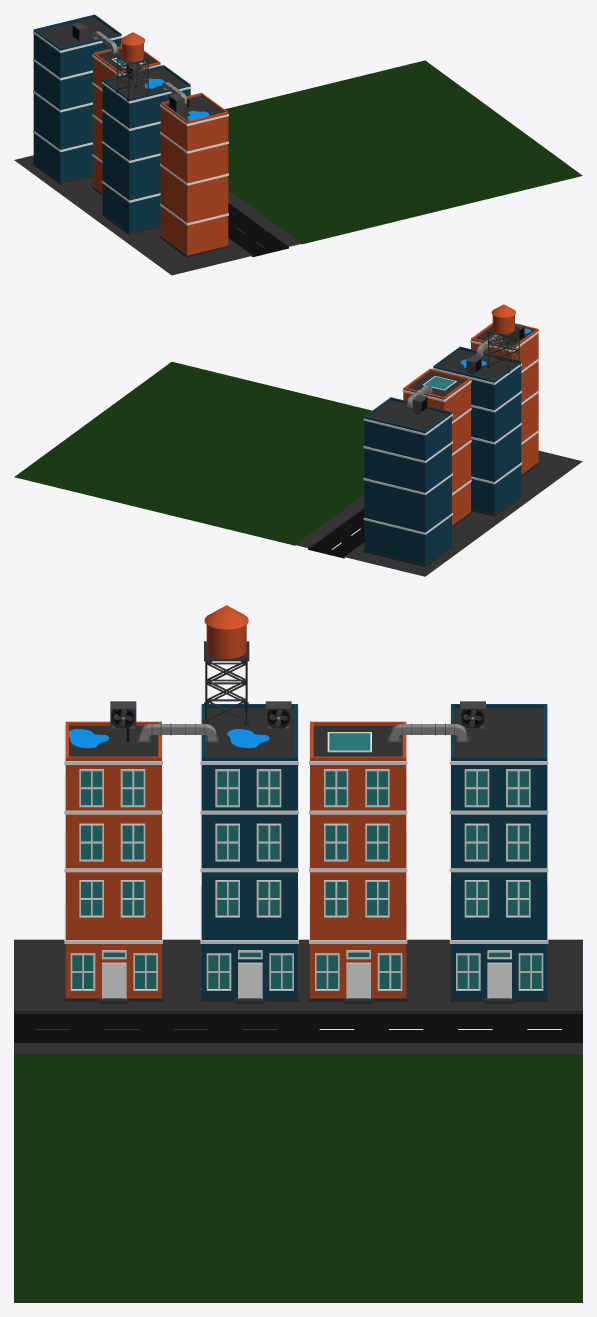
File: level2_environment_rooftop.fbx
3 renders of one model, top to bottom at view 1: azimuth 30°, elevation 25°; view 2: azimuth 150°, elevation 25°; view 3: azimuth 270°, elevation 25°, orthographic. The views are drawn at different scales.
Visible parts, largest first — view 1: calles02, calles01, Box002, Box012, Box003, Box004, Box009; view 2: calles01, calles02, Box012, Box003, Box004, Box002, Box009; view 3: calles02, calles01, Box012, Box003, Box002, Box004, Box009, Line002, Line001, Box006.
Boxes of the visible parts, left/top/right/bottom form: calles02: left=93, top=118, right=582, bottom=275; calles01: left=14, top=60, right=503, bottom=217; Box002: left=160, top=92, right=228, bottom=257; Box012: left=33, top=14, right=122, bottom=184; Box003: left=102, top=65, right=191, bottom=234; Box004: left=92, top=46, right=161, bottom=195; Box009: left=115, top=32, right=150, bottom=100; calles01: left=14, top=419, right=503, bottom=576; calles02: left=93, top=362, right=582, bottom=518; Box012: left=363, top=397, right=452, bottom=566; Box003: left=432, top=346, right=521, bottom=516; Box004: left=402, top=368, right=471, bottom=527; Box002: left=470, top=323, right=539, bottom=476; Box009: left=486, top=304, right=520, bottom=372; calles02: left=14, top=939, right=298, bottom=1302; calles01: left=298, top=939, right=582, bottom=1302; Box012: left=449, top=704, right=548, bottom=1003; Box003: left=200, top=704, right=298, bottom=1003; Box002: left=64, top=721, right=162, bottom=1003; Box004: left=309, top=721, right=407, bottom=1003; Box009: left=204, top=605, right=249, bottom=725; Line002: left=387, top=723, right=469, bottom=743; Line001: left=137, top=723, right=218, bottom=743; Box006: left=327, top=732, right=371, bottom=752.
Size of the model in its own units: 12709 by 5816 by 8445.
